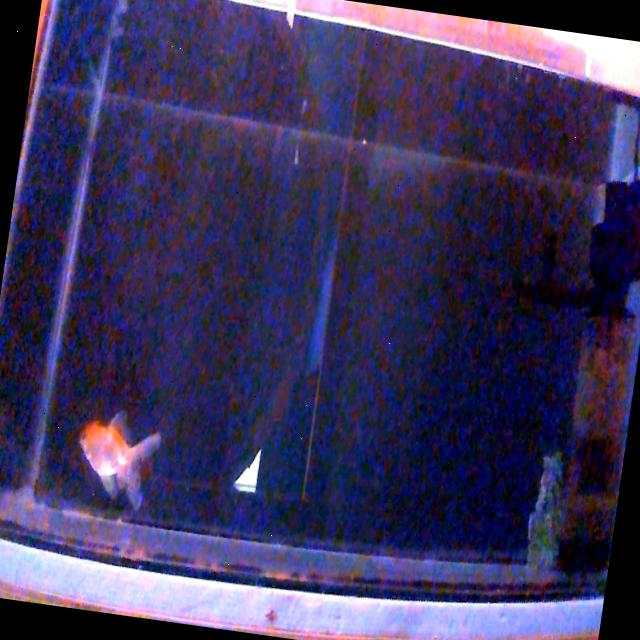fish: (68, 408, 164, 514)
